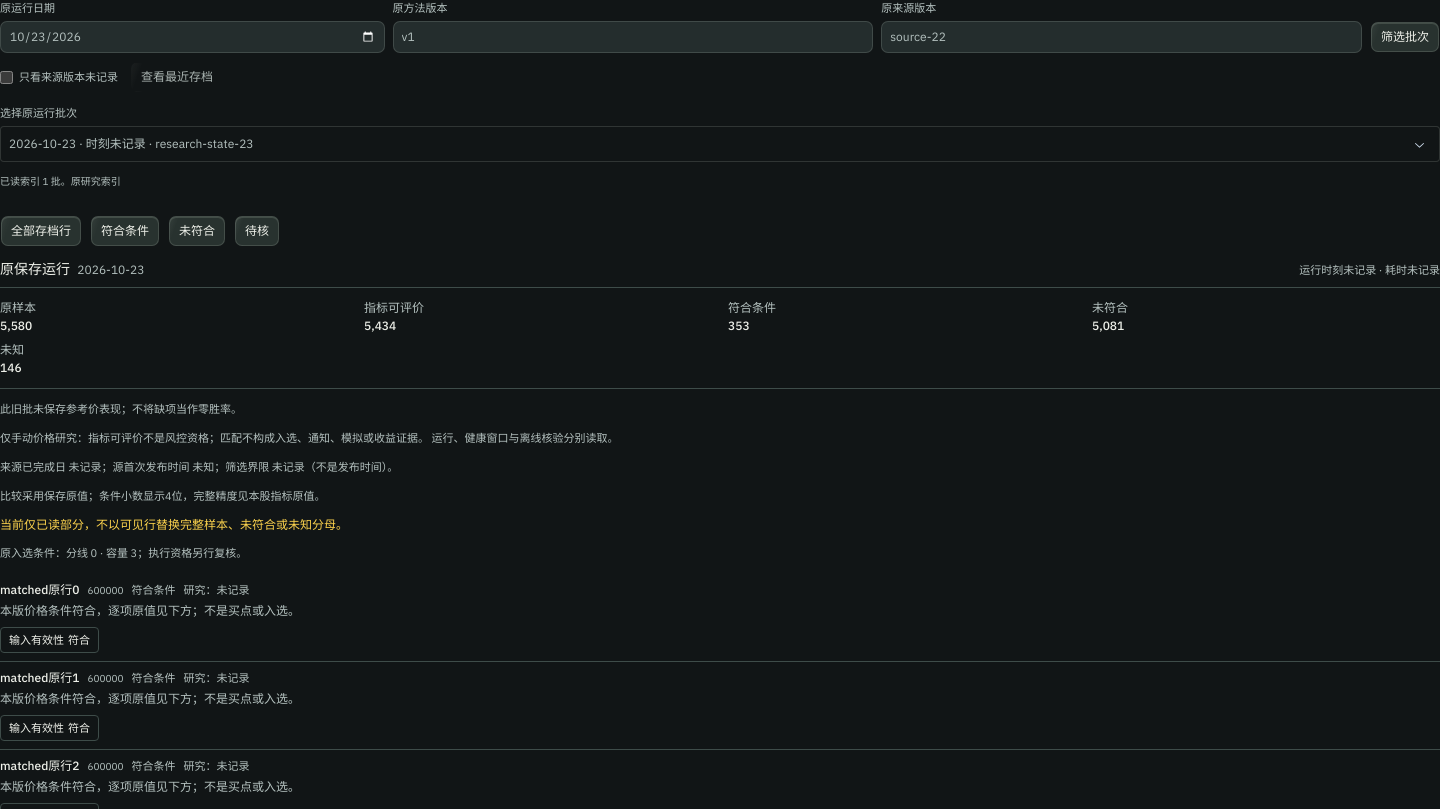
Test: reference research state paging › reads the selected state from offset zero instead of blindly traversing 5580 rows or filtering the first 200 matches
The width and height of the screenshot is (1440, 809).
Expected: the link "matched原行0" is shown, [0, 582, 80, 598]
Click the button "待核".
click(257, 231)  # box [234, 215, 280, 247]
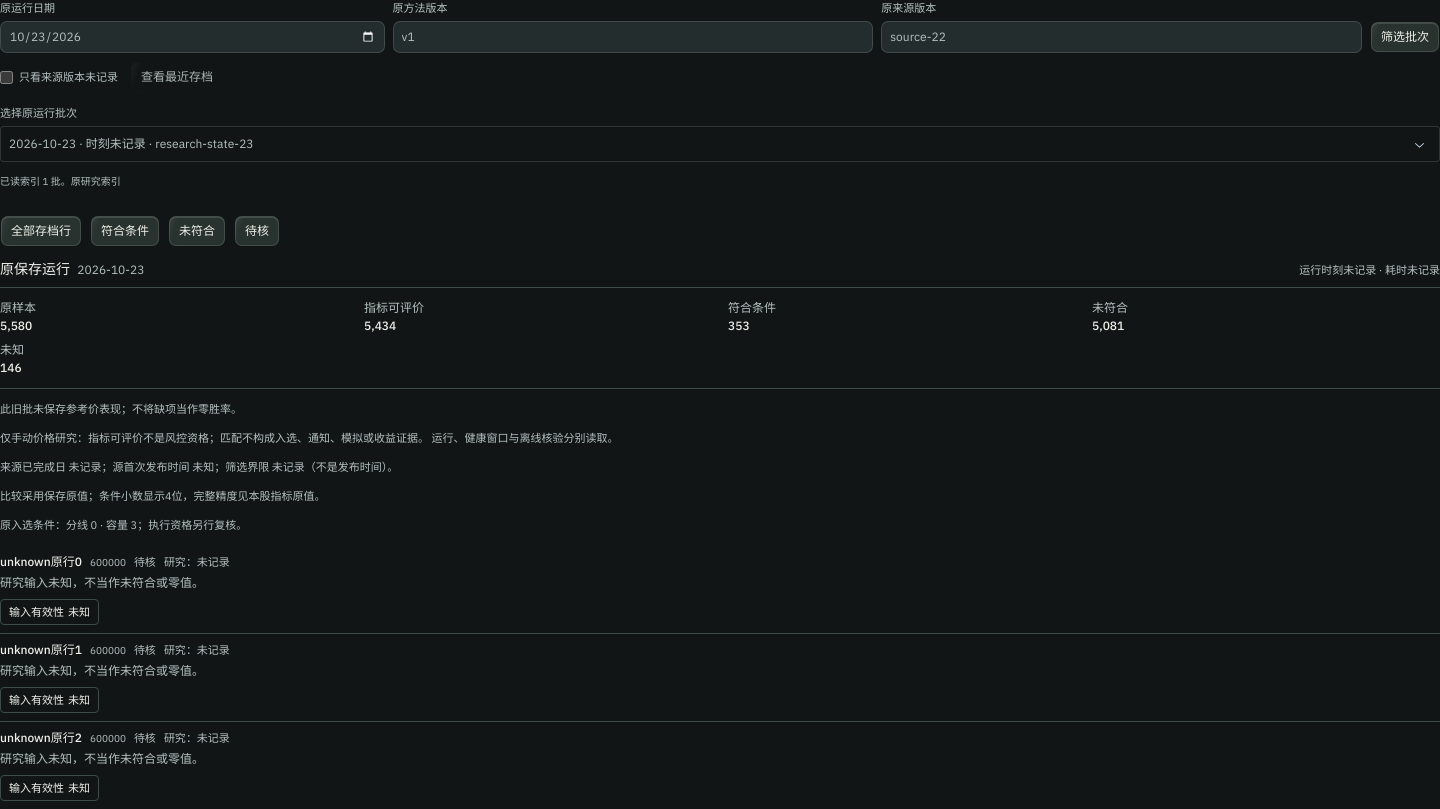
Expected: the text "5,580" is shown, [0, 318, 32, 333]
Expected: the link "unknown原行0" is shown, [0, 554, 82, 570]
Click the button "未符合".
click(197, 231)  # box [168, 215, 226, 247]
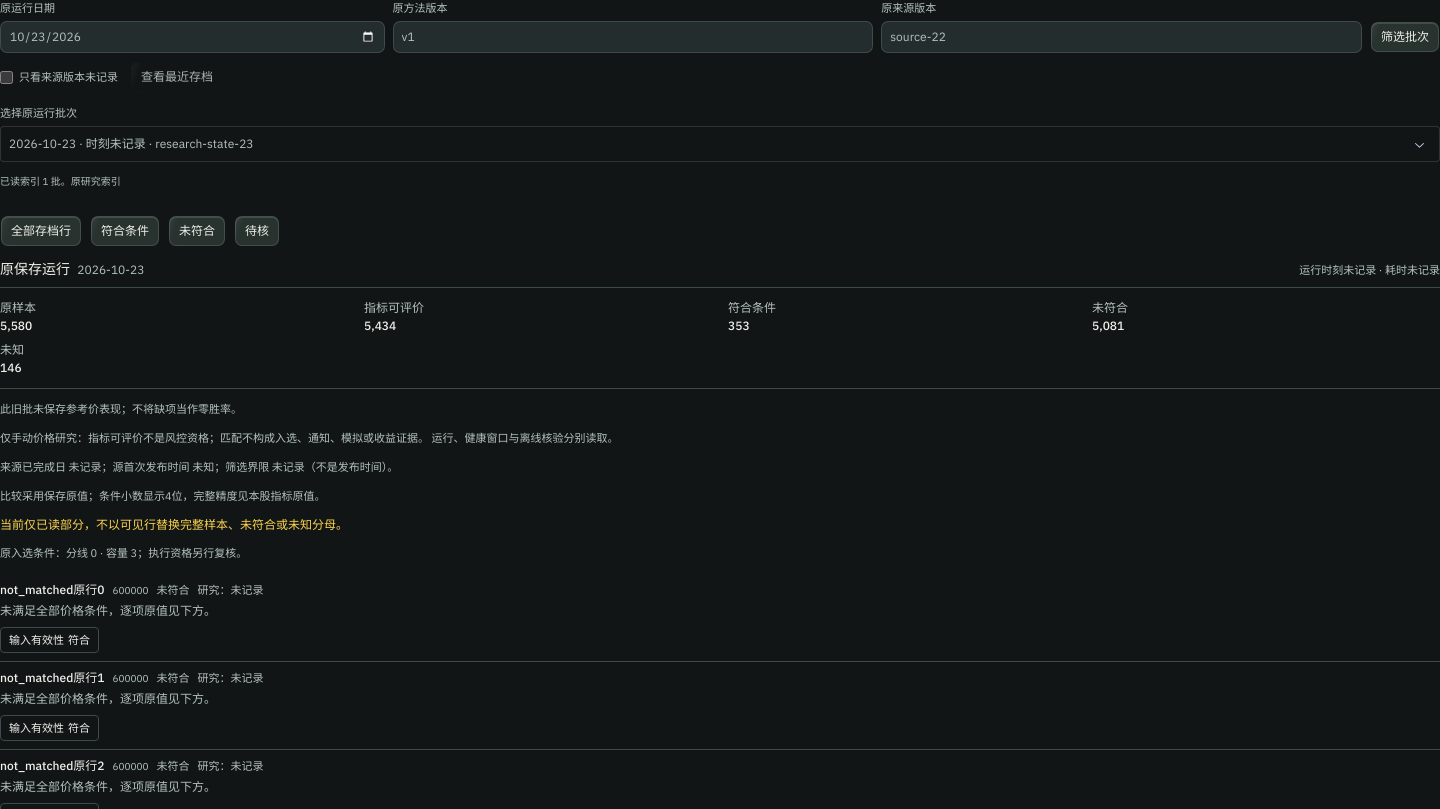
Expected: the link "not_matched原行0" is shown, [0, 582, 104, 598]
Expected: the link "unknown原行0" is gone
